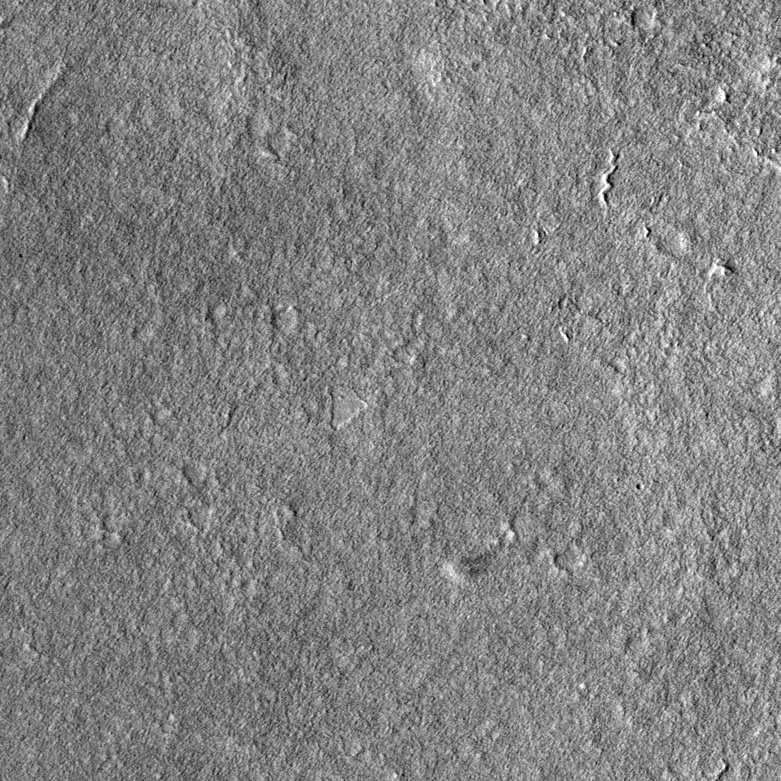dust_devil: (441, 538, 508, 585)
